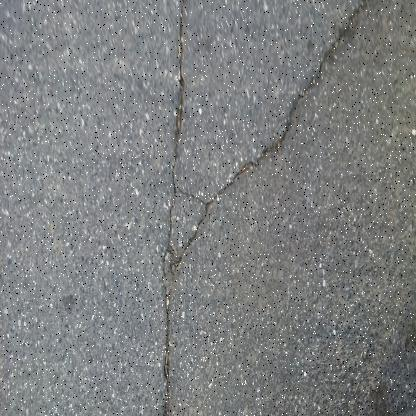Cracks: (170, 0, 394, 284), (155, 0, 194, 416)
